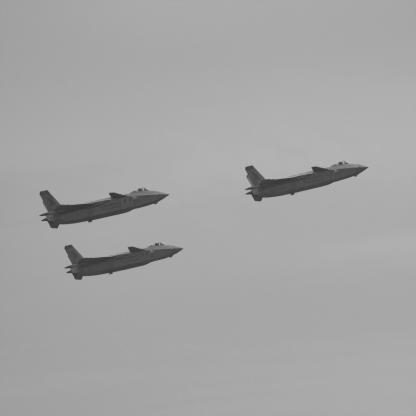J20: (40, 188, 170, 230), (246, 161, 370, 203), (65, 242, 184, 281)
